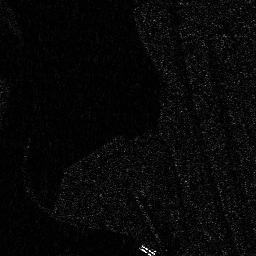ship: (138, 243, 156, 256)
